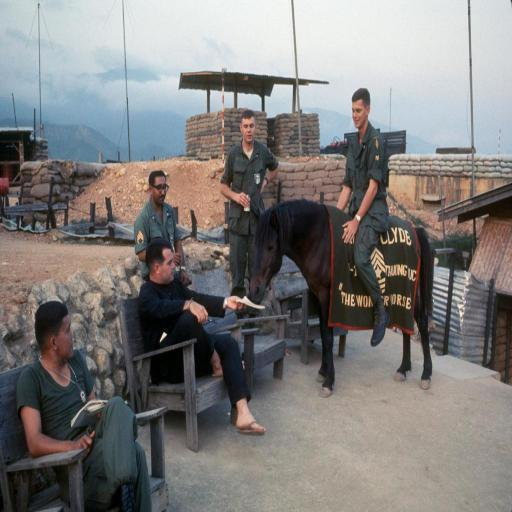horse: (250, 197, 436, 399)
